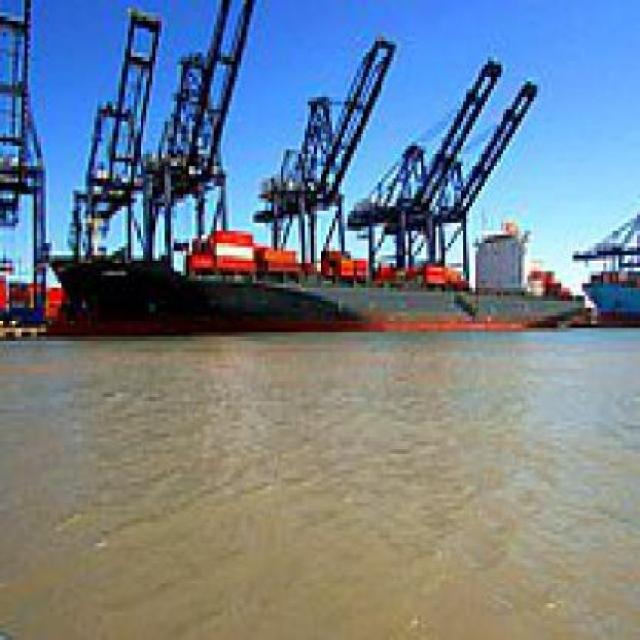container: (47, 223, 593, 342)
